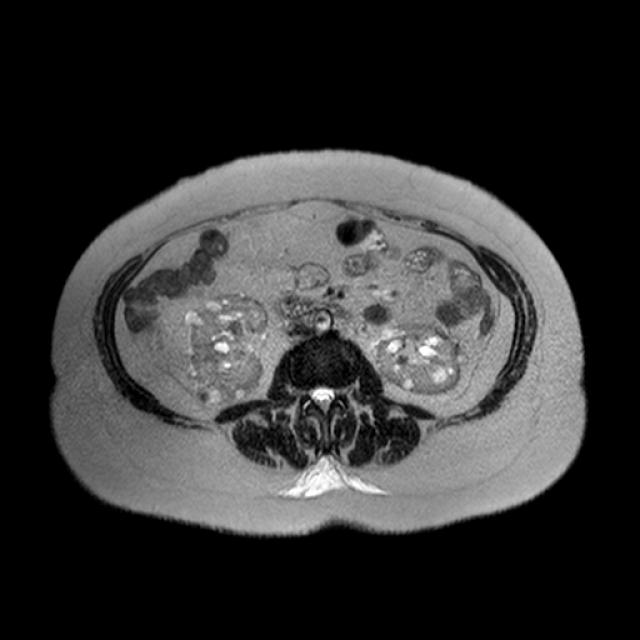sag: (183, 290, 267, 408)
sol: (371, 322, 468, 394)
